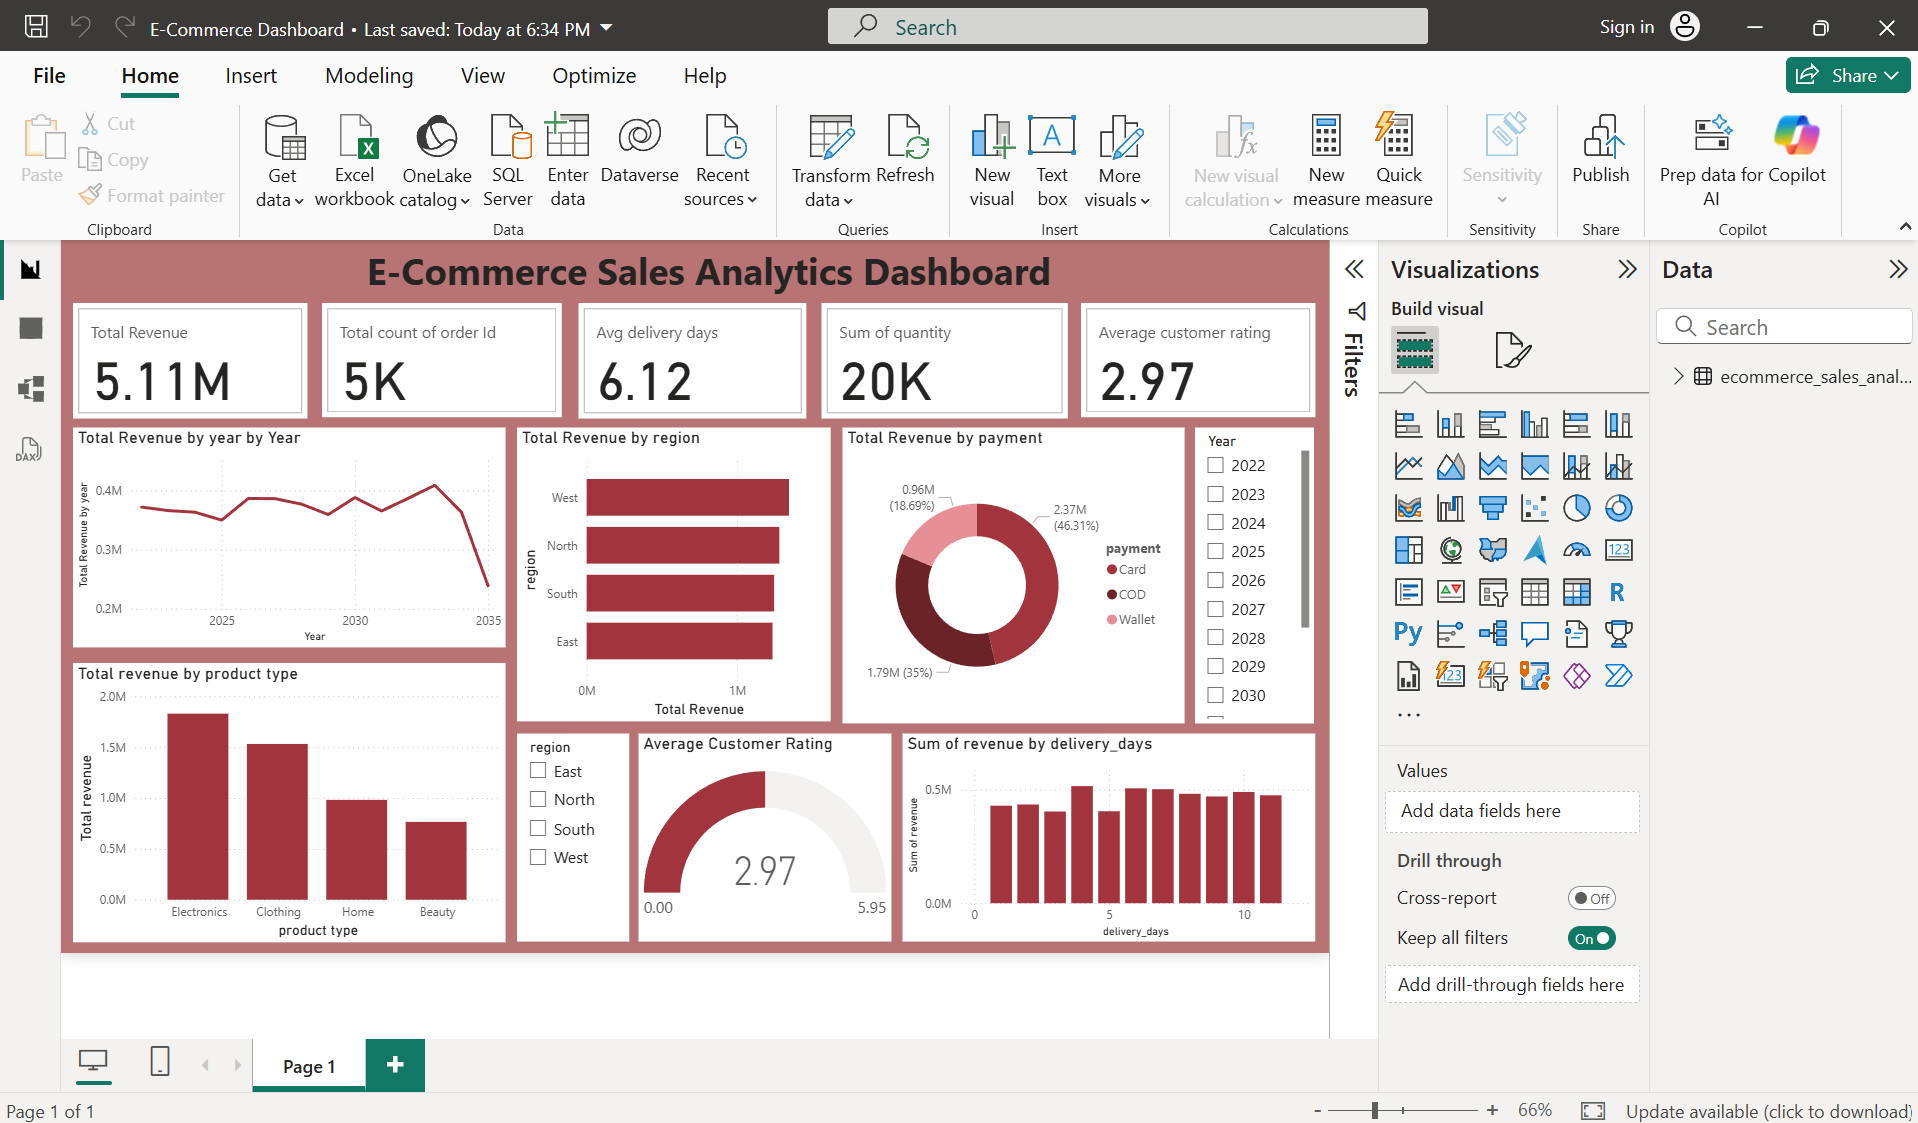

This screenshot's page, from the dashboard's own definition file:
{"tool":"powerbi","page":{"name":"Page 1","canvas":[1280,720],"ordinal":0},"visuals":[{"type":"cardVisual","fields":{"Data":["Sum(ecommerce_sales_analytics_5000.revenue)"]},"box":[11.7,63.3,236.7,116.7],"z":0},{"type":"cardVisual","fields":{"Data":["Count(ecommerce_sales_analytics_5000.order_id)"]},"box":[263.3,63.3,241.7,115],"z":1000},{"type":"cardVisual","fields":{"Data":["Sum(ecommerce_sales_analytics_5000.quantity)"]},"box":[768.3,63.3,248.3,116.7],"z":2000},{"type":"cardVisual","fields":{"Data":["Avg(ecommerce_sales_analytics_5000.customer_rating)"]},"box":[1030,63.3,236.7,115],"z":3000},{"type":"lineChart","fields":{"Y":["Sum(ecommerce_sales_analytics_5000.revenue)"],"Category":["ecommerce_sales_analytics_5000.order_date.Variation.Date Hierarchy.Year","ecommerce_sales_analytics_5000.order_date.Variation.Date Hierarchy.Month"]},"box":[11.7,190,436.7,221.7],"z":4000},{"type":"clusteredBarChart","fields":{"Category":["ecommerce_sales_analytics_5000.region"],"Y":["Sum(ecommerce_sales_analytics_5000.revenue)"]},"box":[460,190,316.7,296.7],"z":5000},{"type":"donutChart","fields":{"Category":["ecommerce_sales_analytics_5000.payment_method"],"Y":["Sum(ecommerce_sales_analytics_5000.revenue)"]},"box":[788.3,190,345,298.3],"z":6000},{"type":"slicer","fields":{"Values":["ecommerce_sales_analytics_5000.region"]},"box":[460,498.3,113.3,210],"z":7000},{"type":"slicer","fields":{"Values":["ecommerce_sales_analytics_5000.order_date.Variation.Date Hierarchy.Year"]},"box":[1145,190,120,298.3],"z":8000},{"type":"clusteredColumnChart","fields":{"Category":["ecommerce_sales_analytics_5000.product_category"],"Y":["Sum(ecommerce_sales_analytics_5000.revenue)"]},"box":[11.7,426.7,436.7,281.7],"z":9000},{"type":"gauge","fields":{"Y":["Avg(ecommerce_sales_analytics_5000.customer_rating)"]},"box":[583.3,498.3,255,210],"z":10000},{"type":"clusteredColumnChart","fields":{"Category":["ecommerce_sales_analytics_5000.delivery_days"],"Y":["Sum(ecommerce_sales_analytics_5000.revenue)"]},"box":[850,498.3,416.7,210],"z":11000},{"type":"cardVisual","fields":{"Data":["Avg(ecommerce_sales_analytics_5000.delivery_days)"]},"box":[521.7,63.3,230,116.7],"z":12000},{"type":"textbox","box":[290,0,726.7,60],"z":13000}]}

Visuals, with their boxes on the page's 1280x720 design canvas (x1, y1, x2, y2). These are canvas units, not pixel positions in the 1918x1123 screenshot, which may show the page scaled, cropped or inside an application window:
cardVisual - Sum(ecommerce_sales_analytics_5000.revenue): l=12, t=63, r=248, b=180
cardVisual - Count(ecommerce_sales_analytics_5000.order_id): l=263, t=63, r=505, b=178
cardVisual - Sum(ecommerce_sales_analytics_5000.quantity): l=768, t=63, r=1017, b=180
cardVisual - Avg(ecommerce_sales_analytics_5000.customer_rating): l=1030, t=63, r=1267, b=178
lineChart - Sum(ecommerce_sales_analytics_5000.revenue) x ecommerce_sales_analytics_5000.order_date.Variation.Date Hierarchy.Year: l=12, t=190, r=448, b=412
clusteredBarChart - ecommerce_sales_analytics_5000.region x Sum(ecommerce_sales_analytics_5000.revenue): l=460, t=190, r=777, b=487
donutChart - ecommerce_sales_analytics_5000.payment_method x Sum(ecommerce_sales_analytics_5000.revenue): l=788, t=190, r=1133, b=488
slicer - ecommerce_sales_analytics_5000.region: l=460, t=498, r=573, b=708
slicer - ecommerce_sales_analytics_5000.order_date.Variation.Date Hierarchy.Year: l=1145, t=190, r=1265, b=488
clusteredColumnChart - ecommerce_sales_analytics_5000.product_category x Sum(ecommerce_sales_analytics_5000.revenue): l=12, t=427, r=448, b=708
gauge - Avg(ecommerce_sales_analytics_5000.customer_rating): l=583, t=498, r=838, b=708
clusteredColumnChart - ecommerce_sales_analytics_5000.delivery_days x Sum(ecommerce_sales_analytics_5000.revenue): l=850, t=498, r=1267, b=708
cardVisual - Avg(ecommerce_sales_analytics_5000.delivery_days): l=522, t=63, r=752, b=180
textbox: l=290, t=0, r=1017, b=60
